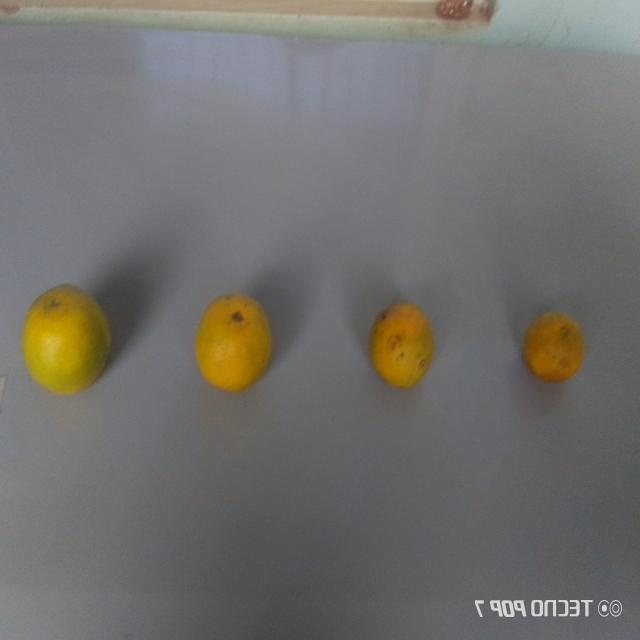agrume: (16, 277, 116, 401), (190, 285, 278, 400), (365, 296, 441, 392), (517, 303, 591, 391)
